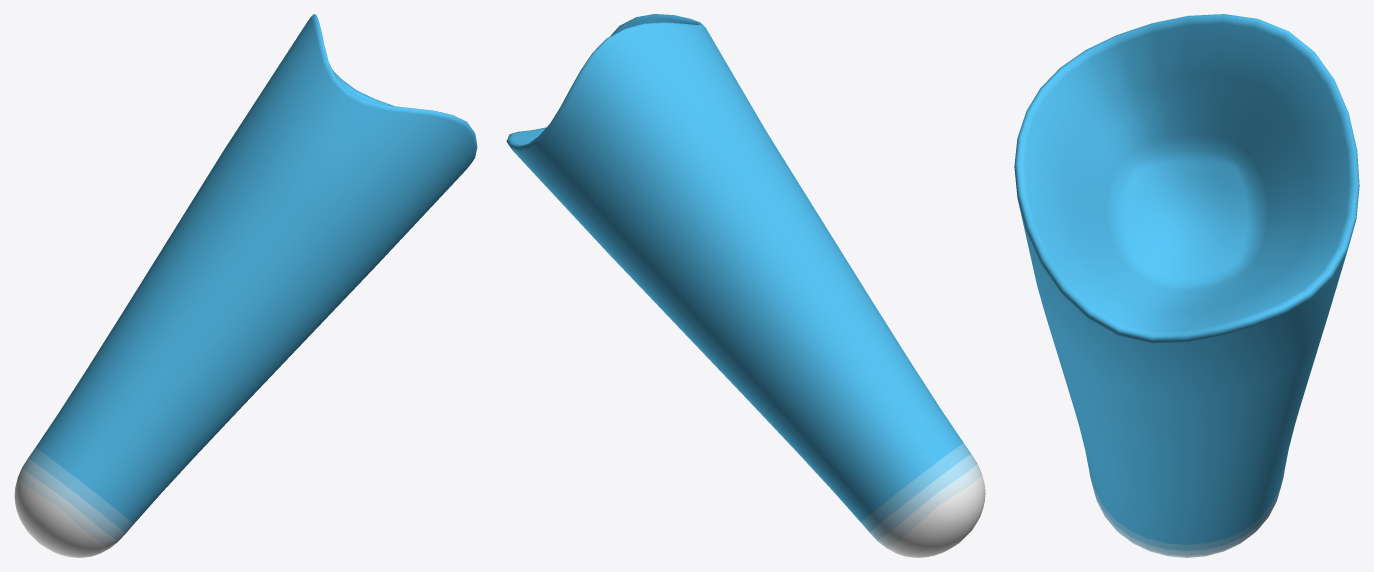
File: Comet.gltf
3 views of the same model, side by side, from view 1: azimuth 30°, elevation 25°; view 2: azimuth 150°, elevation 25°; view 3: azimuth 270°, elevation 25° (orthographic). The views are drawn at different scales.
Visible parts, largest first — view 1: Cube.224; view 2: Cube.224; view 3: Cube.224.
Boxes of the visible parts, <box> form: Cube.224: <box>14,14,477,557</box>; Cube.224: <box>506,14,985,557</box>; Cube.224: <box>1014,14,1359,557</box>.
Bounding box in the file's own units: 1.38 × 1.39 × 0.5891.
1 material, 1 textured.
